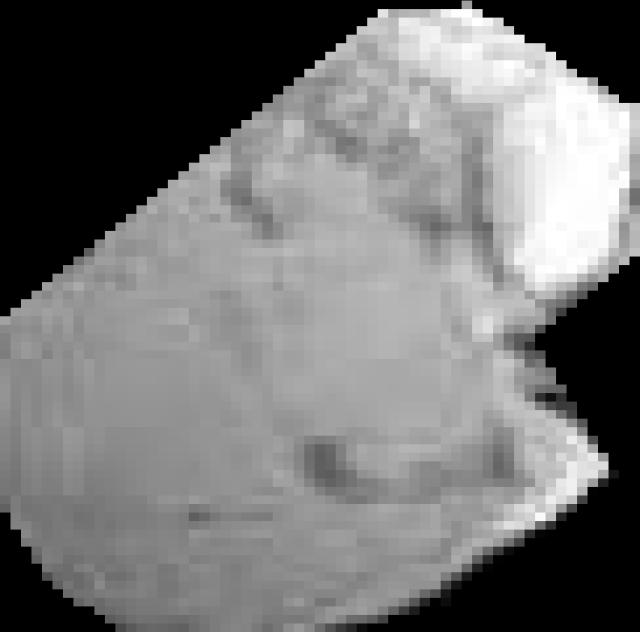tumor_moderate_chance: (0, 1, 640, 632)
